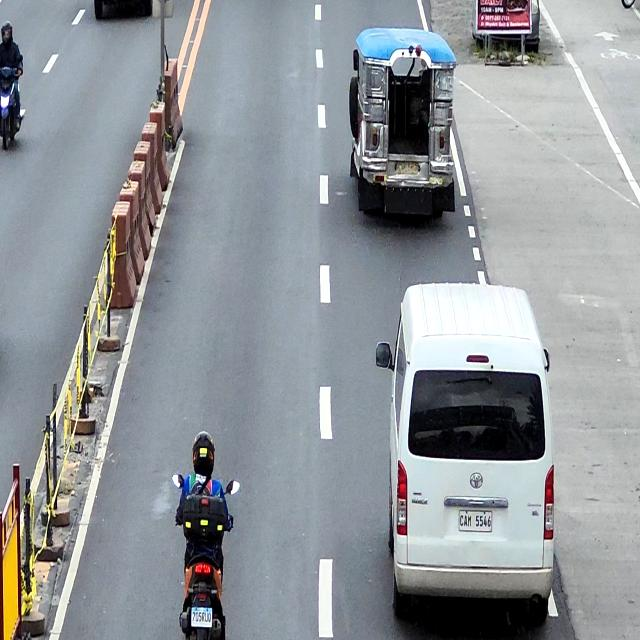Car: (376, 284, 556, 622)
Jeep: (348, 28, 456, 221)
License-Plate: (458, 511, 493, 533), (192, 608, 212, 629), (396, 162, 418, 176)
Motorcycle: (170, 471, 240, 640), (0, 64, 21, 150)
